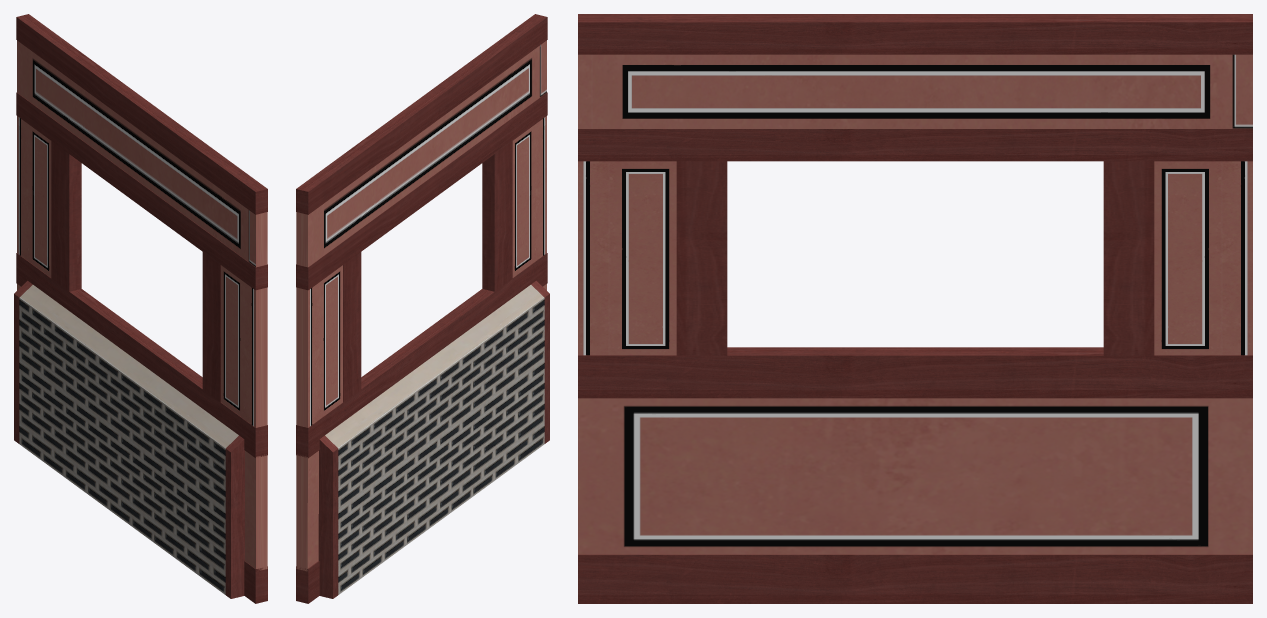
File: SM_Wall07I.fbx
3 renders of one model, left to right at view 1: azimuth 30°, elevation 25°; view 2: azimuth 150°, elevation 25°; view 3: azimuth 270°, elevation 25°, orthographic. The views are drawn at different scales.
Parts seen in each view (by area): view 1: SM_Wall07I; view 2: SM_Wall07I; view 3: SM_Wall07I.
Part boxes in pixels (x1=…): SM_Wall07I: x1=14, y1=14, x2=267, y2=603; SM_Wall07I: x1=296, y1=14, x2=549, y2=603; SM_Wall07I: x1=578, y1=14, x2=1252, y2=603.
Bounding box in the file's own units: 18.83 × 302 × 287.
